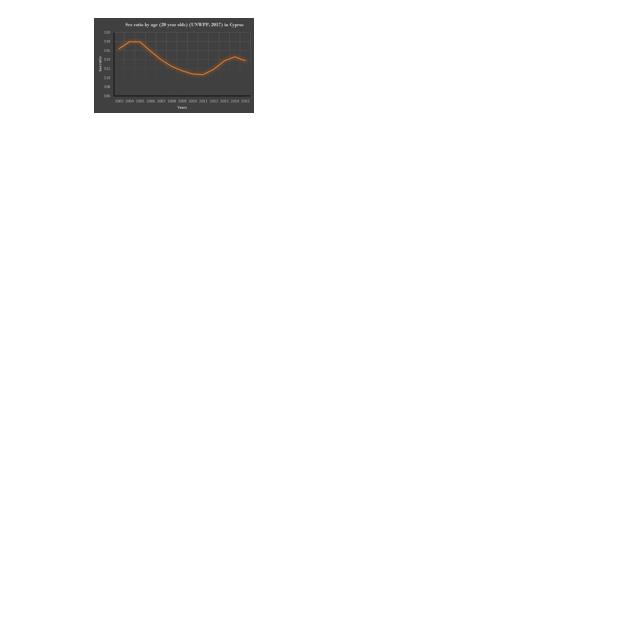Graph: (94, 18, 254, 113)
